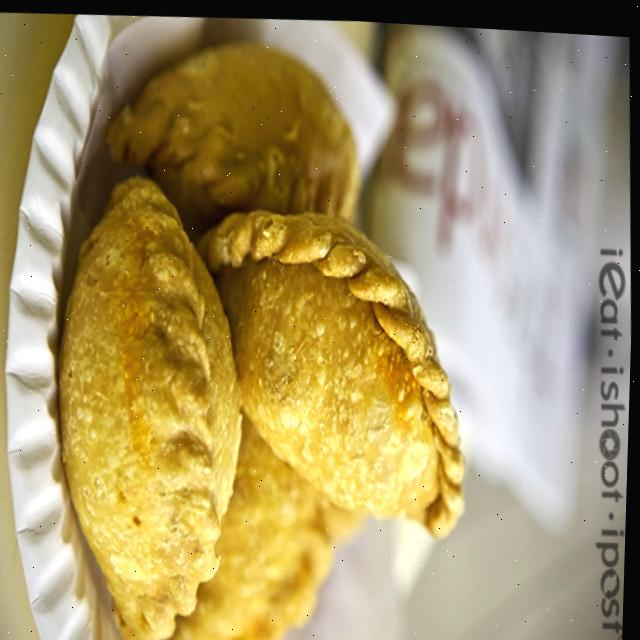炸货点心: (22, 12, 512, 640)
